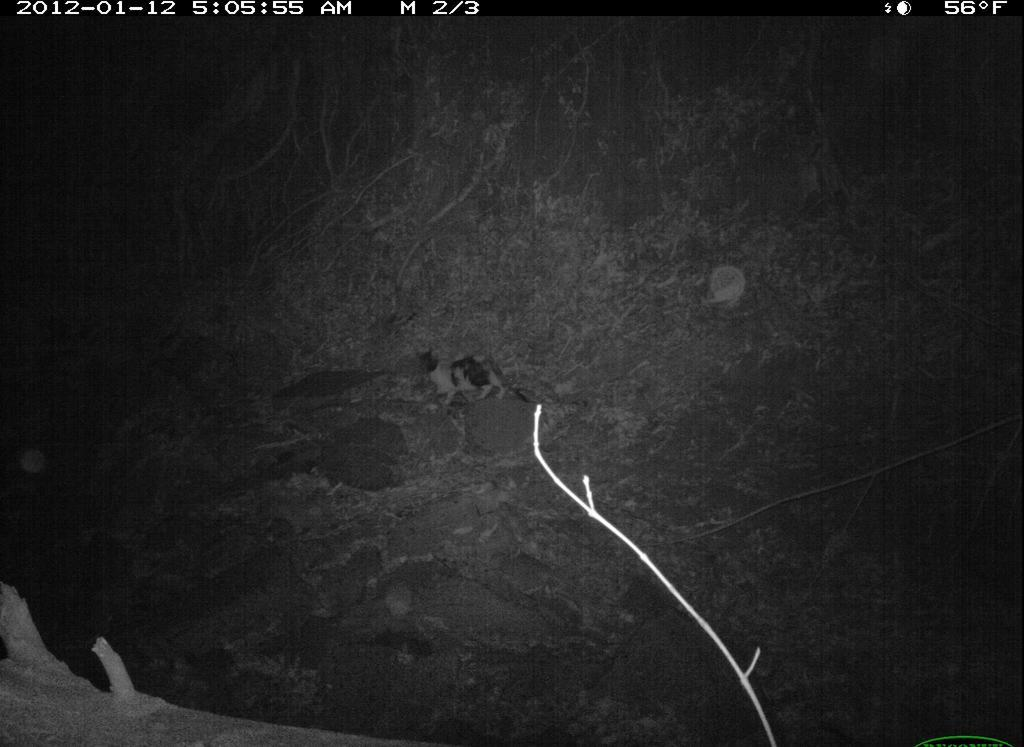cat: (409, 329, 542, 415)
